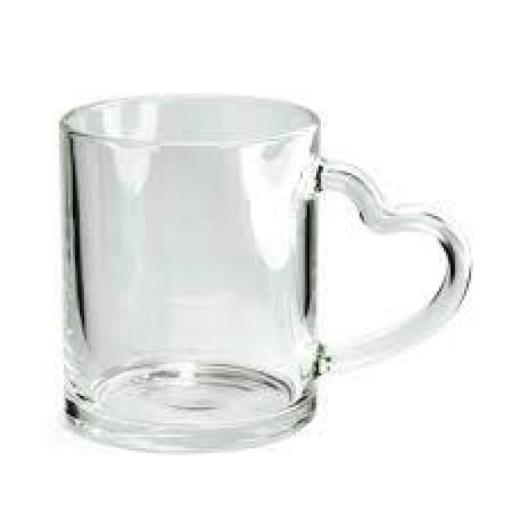glass: (49, 80, 494, 472)
